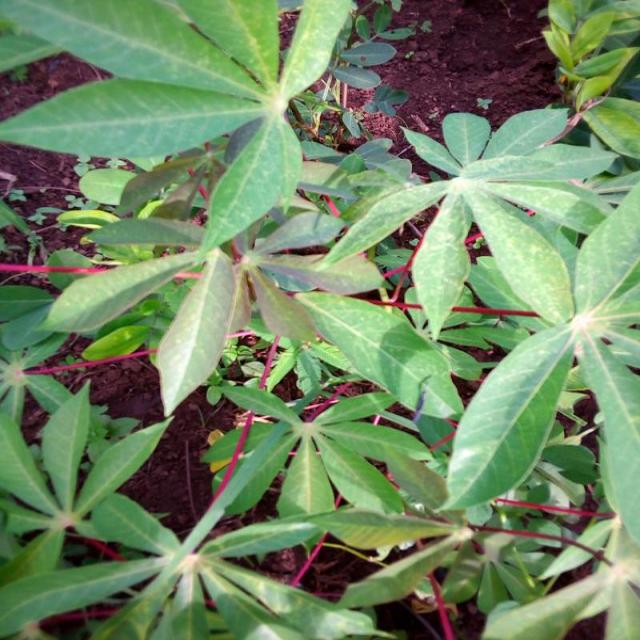cassava leaf: (1, 1, 638, 637), (437, 321, 576, 513), (154, 245, 236, 417)
